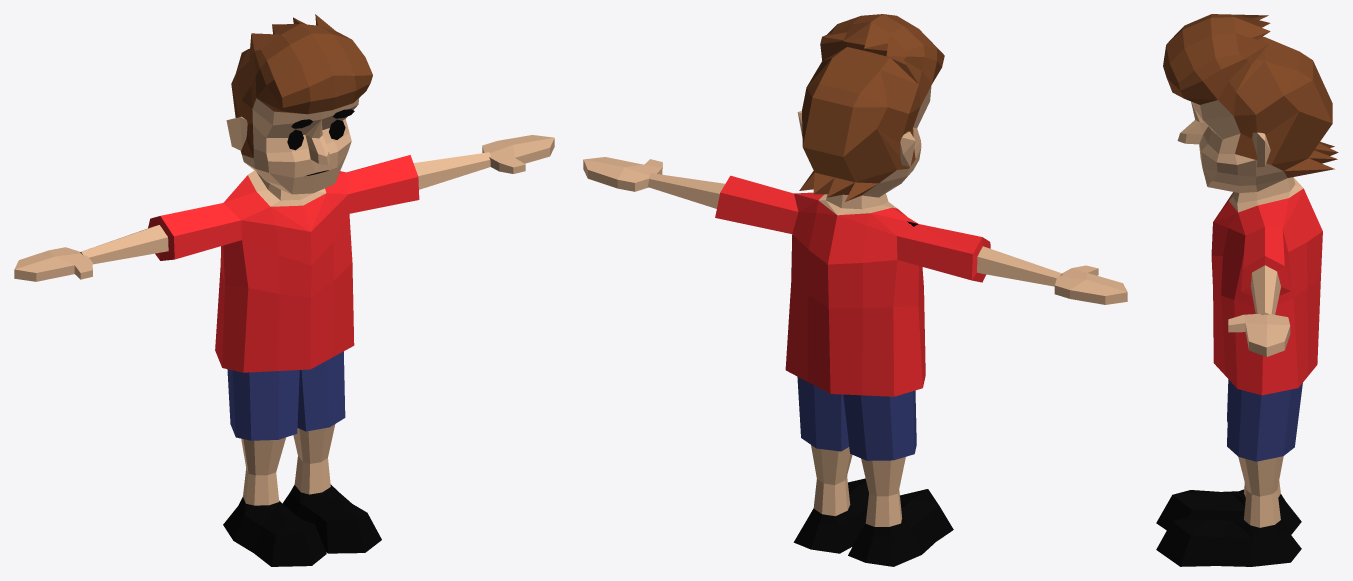
Rendered from man_blender_export.fbx.
3 views of the same model, side by side, from view 1: azimuth 30°, elevation 25°; view 2: azimuth 150°, elevation 25°; view 3: azimuth 270°, elevation 25° (orthographic). The views are drawn at different scales.
Parts seen in each view (by area): view 1: Cube, hands; view 2: Cube, hands; view 3: Cube, hands, Cube.002.
Part boxes in pixels (<box>): Cube: <box>80,14,490,566</box>; hands: <box>14,135,554,281</box>; Cube: <box>647,14,1062,566</box>; hands: <box>583,157,1127,304</box>; Cube: <box>1156,14,1338,566</box>; hands: <box>1228,313,1290,356</box>; Cube.002: <box>1252,132,1270,167</box>.
Bounding box in the file's own units: 739 × 668 × 211.
